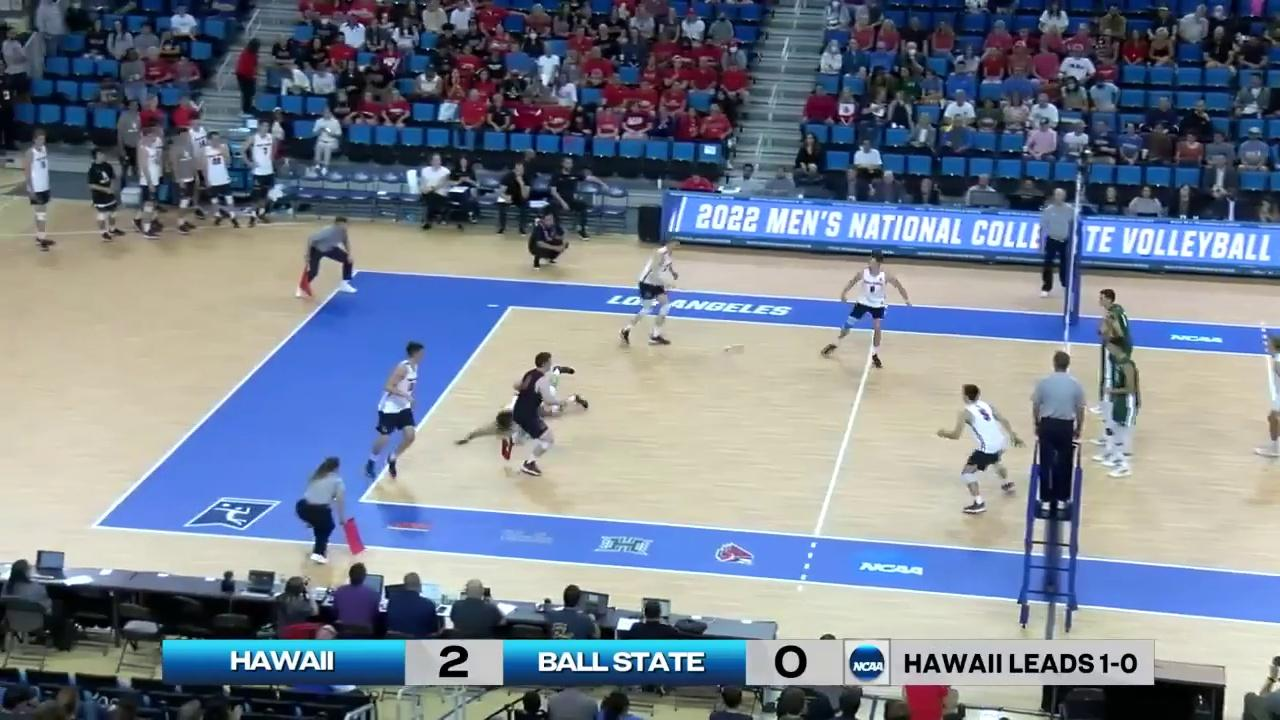player: (454, 365, 587, 451), (940, 385, 1019, 513), (820, 251, 901, 369), (368, 341, 421, 479), (621, 239, 686, 348), (505, 354, 561, 473), (1092, 329, 1135, 461), (1091, 288, 1134, 417), (1101, 337, 1140, 478), (1256, 335, 1280, 461)
refree: (1025, 349, 1087, 517), (297, 457, 351, 565), (297, 215, 357, 297), (1040, 189, 1081, 296)
